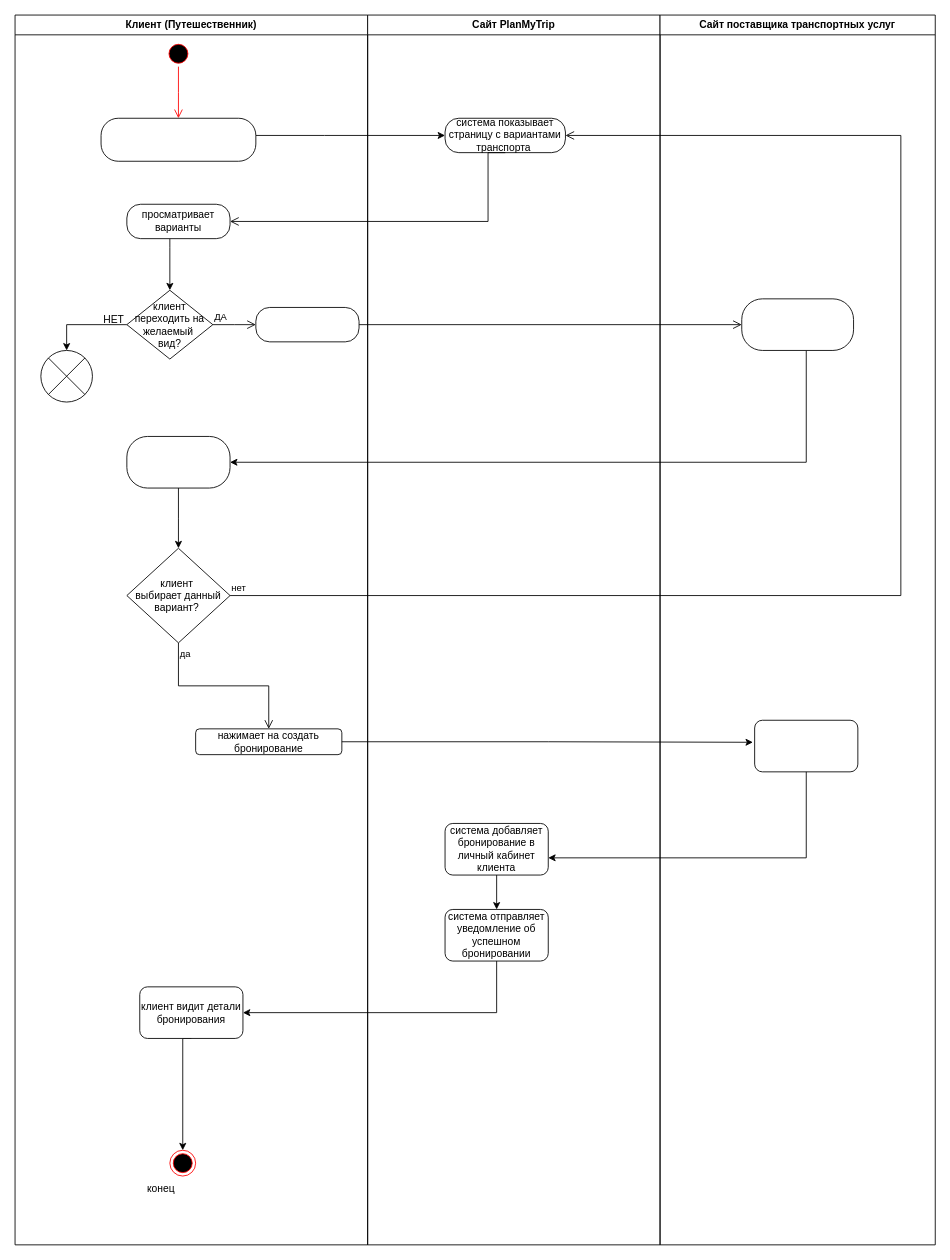
This 950x1260 diagram has some shape labels left out. The centre of each missing label's shape, as x and y in pixels:
"клиент просматривает результат" goes at (178,462).
"отображает результаты" goes at (797,324).
"переходит на сайт поставщика" goes at (307,324).
"переходит на страницу выбора способа передвижения" goes at (178,139).
"система создает бронирование" goes at (806,745).
